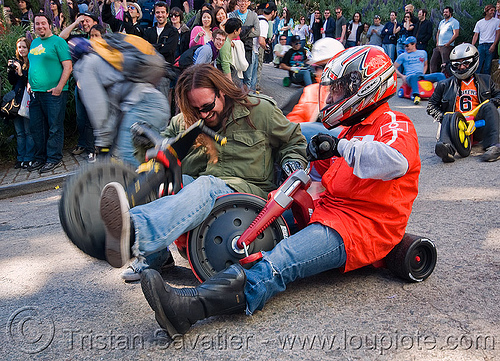helmet: (318, 55, 393, 120), (449, 48, 481, 72)
